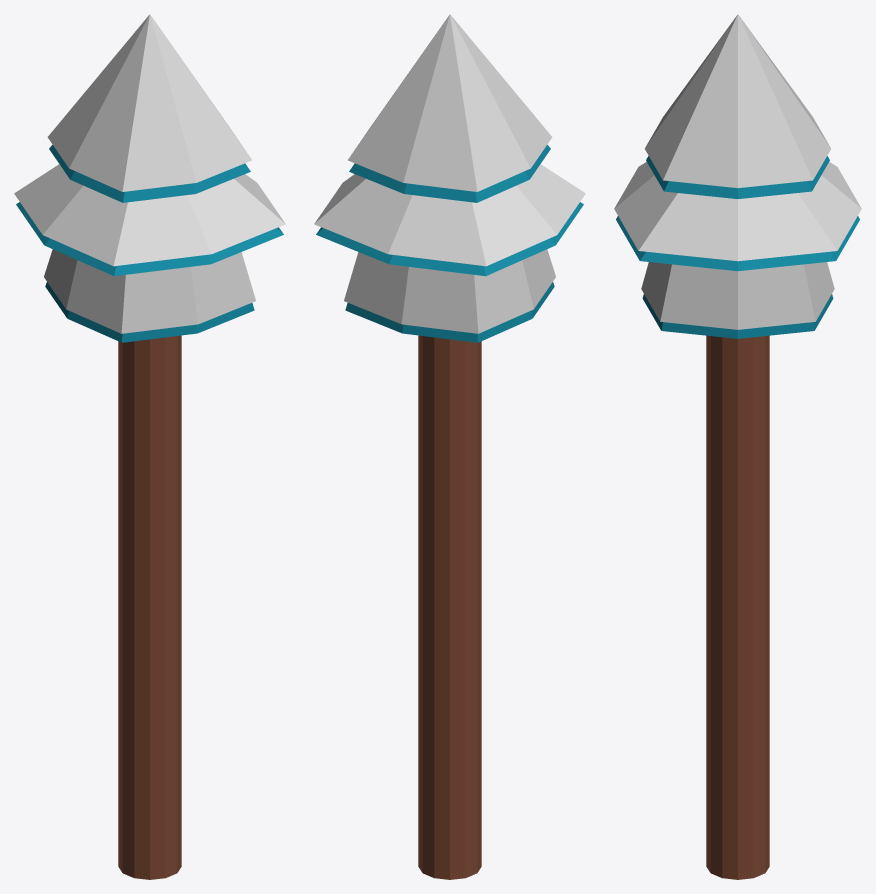
Rendered from Tree_20_winter_blue_mat.fbx.
3 renders of one model, left to right at view 1: azimuth 30°, elevation 25°; view 2: azimuth 150°, elevation 25°; view 3: azimuth 270°, elevation 25°, orthographic.
Visible parts, largest first — view 1: Tree_20_winter_blue_mat; view 2: Tree_20_winter_blue_mat; view 3: Tree_20_winter_blue_mat.
Part boxes in pixels (x1,y1,x2,y2): Tree_20_winter_blue_mat: (14, 14, 285, 879); Tree_20_winter_blue_mat: (314, 14, 585, 879); Tree_20_winter_blue_mat: (614, 14, 861, 879).
Bounding box in the file's own units: 86.74 × 329 × 86.74.
